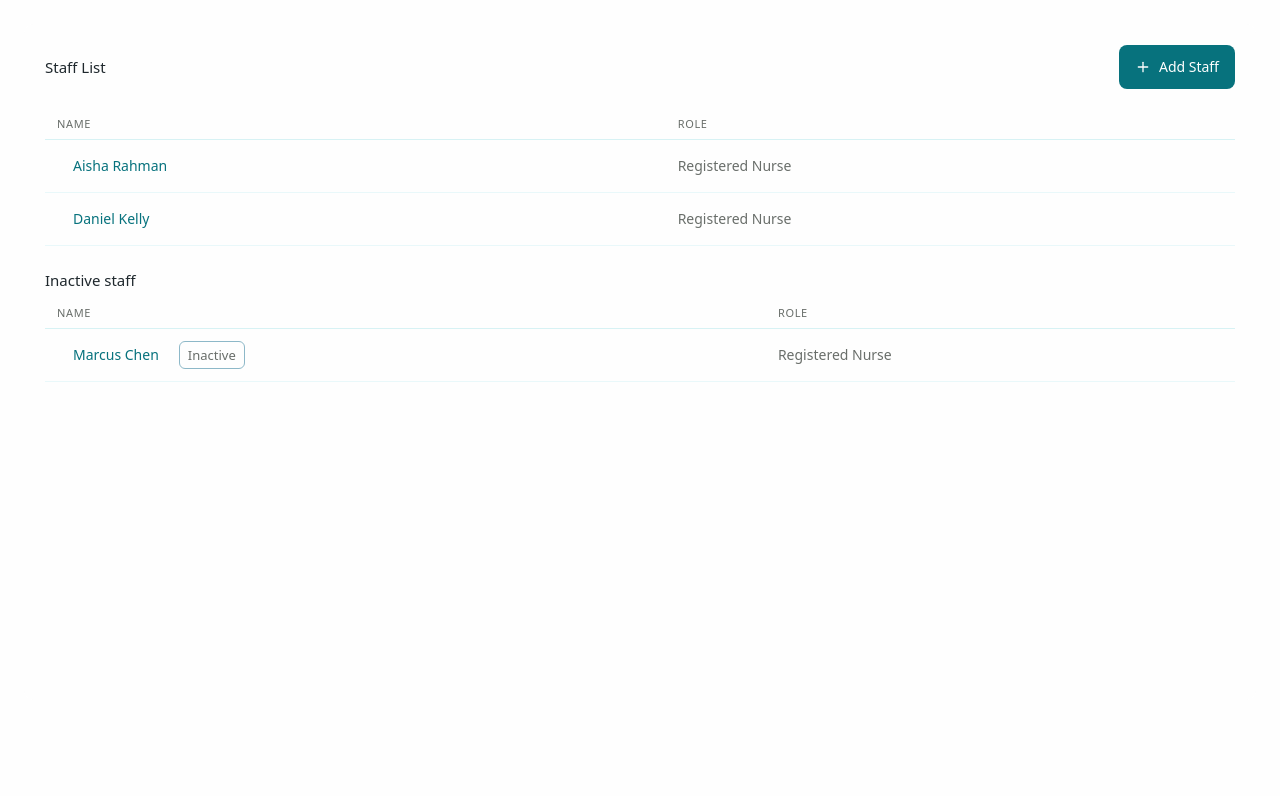
Test: [ADM-03][AC-08] Inactive section › [ADM-03][AC-08] an inactive carer's name still opens the panel, without a Deactivate button
What coordinates should you click on to do the following:
click the button with aria-label "Edit Marcus Chen"
I would click on:
 (116, 355)
Its box is [57, 333, 175, 377].
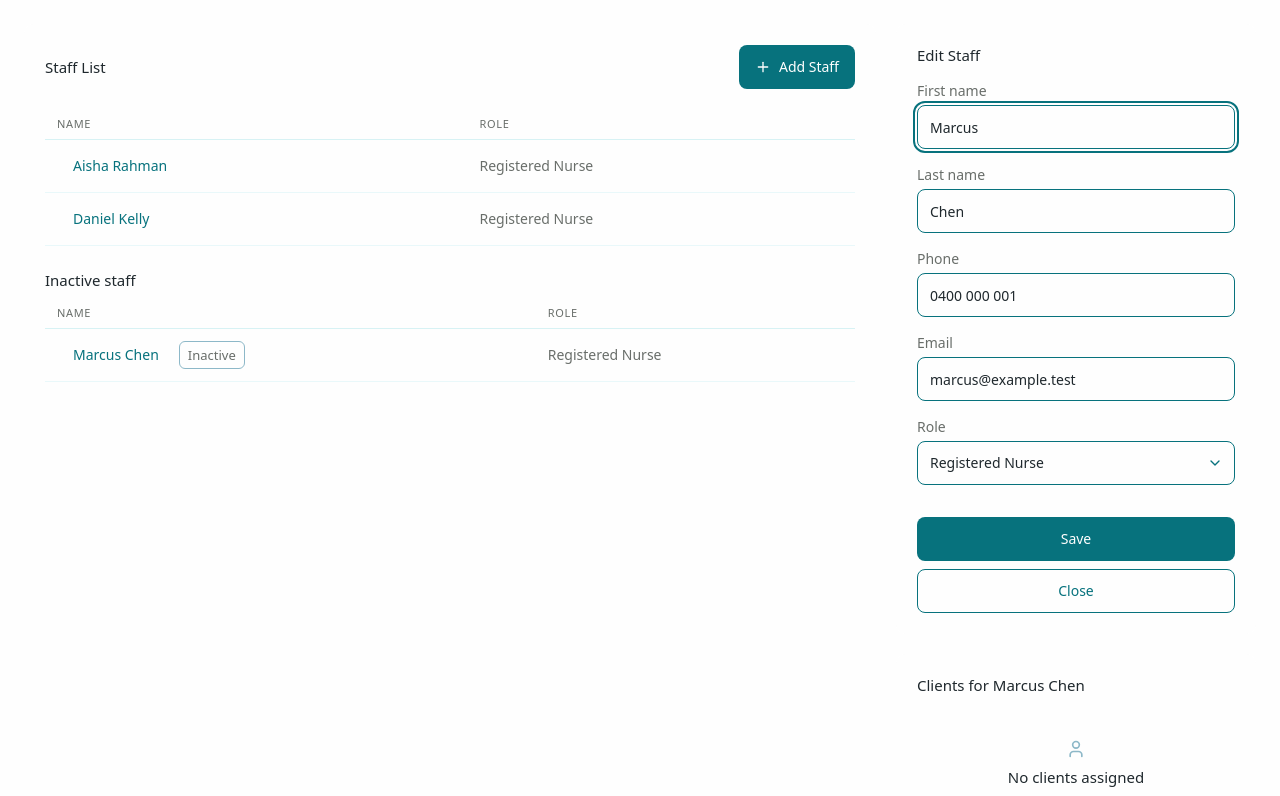
Now the field labelled "First name" holds "Marcus", box [917, 105, 1235, 149]
